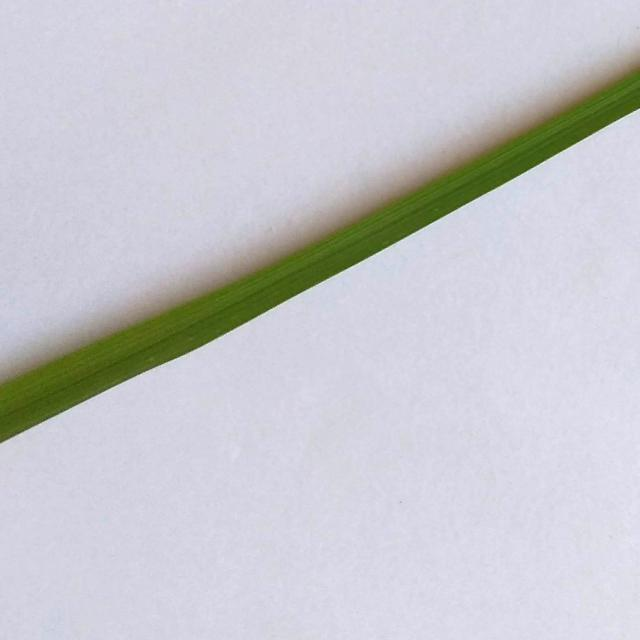healthy: (0, 54, 640, 478)
